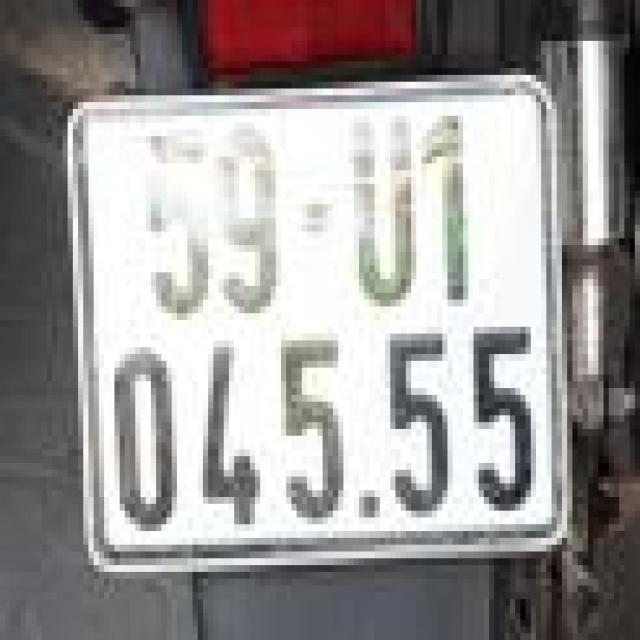0: (104, 330, 182, 548)
1: (422, 109, 478, 306)
4: (192, 330, 266, 535)
5: (460, 313, 560, 524), (122, 119, 206, 317), (372, 320, 445, 524), (273, 327, 341, 524)
9: (210, 112, 284, 324)
U: (338, 112, 416, 317)
